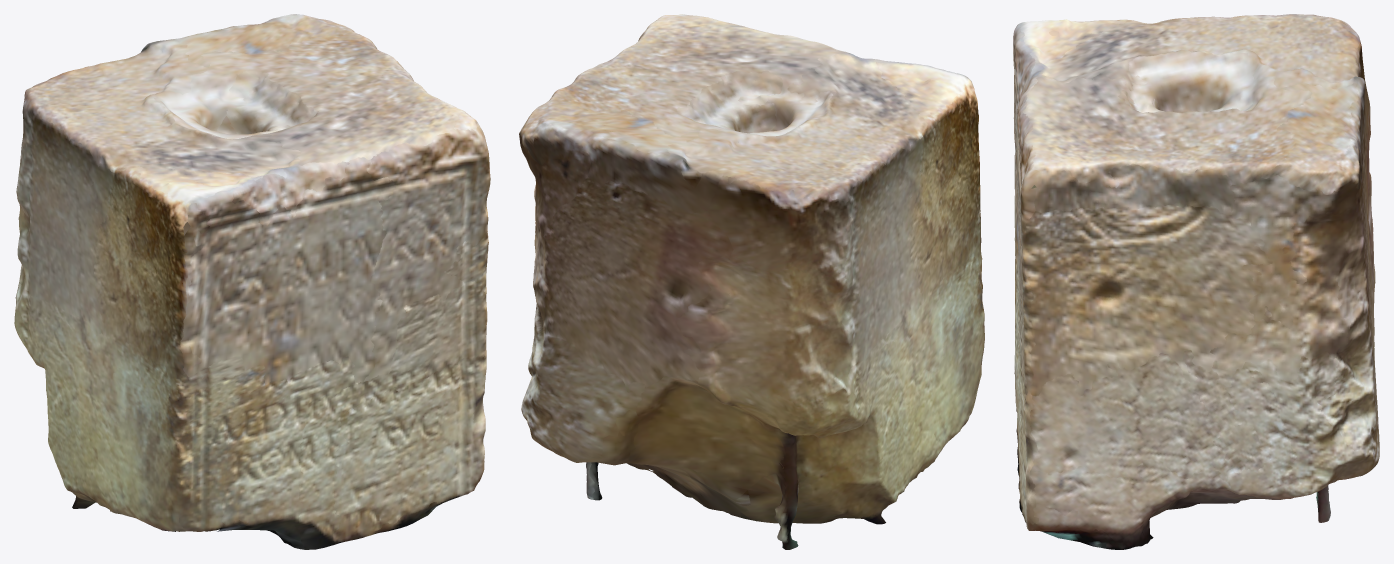
Rendered from roman_honorary_pedestal_ancient_sign_ruin.glb.
The picture shows the model from 3 angles, left to right: view 1: azimuth 30°, elevation 25°; view 2: azimuth 150°, elevation 25°; view 3: azimuth 270°, elevation 25°; orthographic projection. The views are drawn at different scales.
Visible parts, largest first — view 1: Object_5, Object_4, Object_2, Object_3, Object_6; view 2: Object_2, Object_5, Object_6, Object_3, Object_4; view 3: Object_3, Object_4, Object_6, Object_2, Object_5.
Boxes of the visible parts, <box> form: Object_5: <box>14,14,490,512</box>; Object_4: <box>23,40,467,549</box>; Object_2: <box>15,44,485,544</box>; Object_3: <box>94,32,490,531</box>; Object_6: <box>18,14,488,531</box>; Object_2: <box>519,44,980,549</box>; Object_5: <box>519,15,945,528</box>; Object_6: <box>521,14,911,523</box>; Object_3: <box>554,16,984,410</box>; Object_4: <box>523,17,981,523</box>; Object_3: <box>1014,50,1312,549</box>; Object_4: <box>1014,14,1372,535</box>; Object_6: <box>1015,22,1379,472</box>; Object_2: <box>1013,19,1375,549</box>; Object_5: <box>1013,23,1370,486</box>.
Size of the model in its own units: 0.615 by 0.6802 by 0.5786.
Materials: 1 (1 with a texture image).
